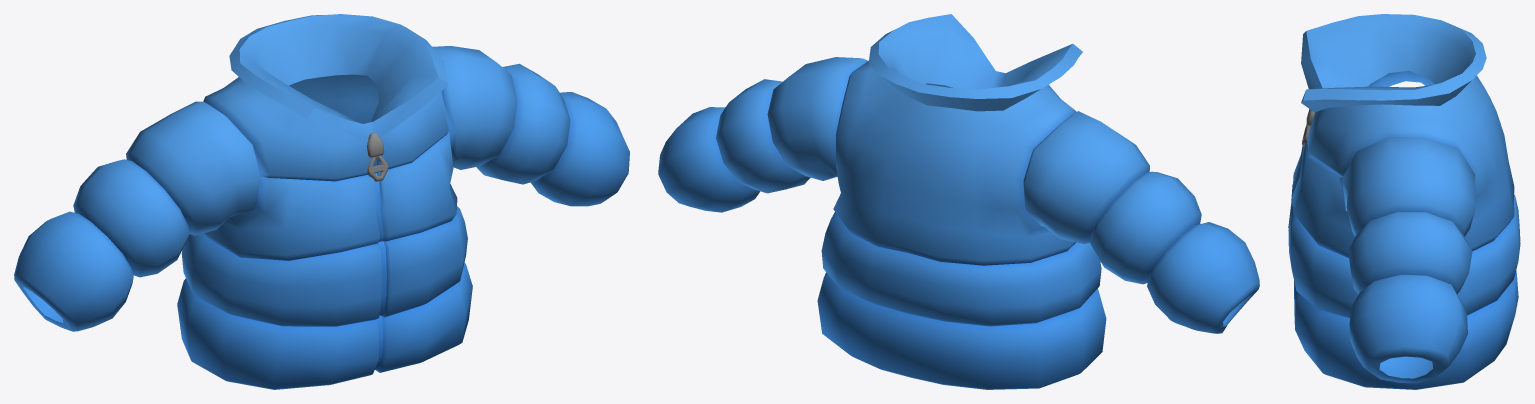
The model's file is Outwear_38.glb.
The picture shows the model from 3 angles, left to right: view 1: azimuth 30°, elevation 25°; view 2: azimuth 150°, elevation 25°; view 3: azimuth 270°, elevation 25°; orthographic projection. The views are drawn at different scales.
Visible parts, largest first — view 1: Outwear_38; view 2: Outwear_38; view 3: Outwear_38.
Boxes of the visible parts, <box> form: Outwear_38: <box>14,14,629,389</box>; Outwear_38: <box>658,14,1259,389</box>; Outwear_38: <box>1288,14,1520,389</box>.
Size of the model in its own units: 0.6416 by 0.299 by 0.2247.
1 material, 1 textured.
